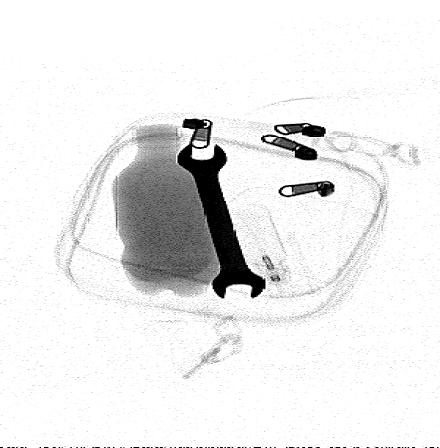Wrench: (175, 143, 269, 299)
